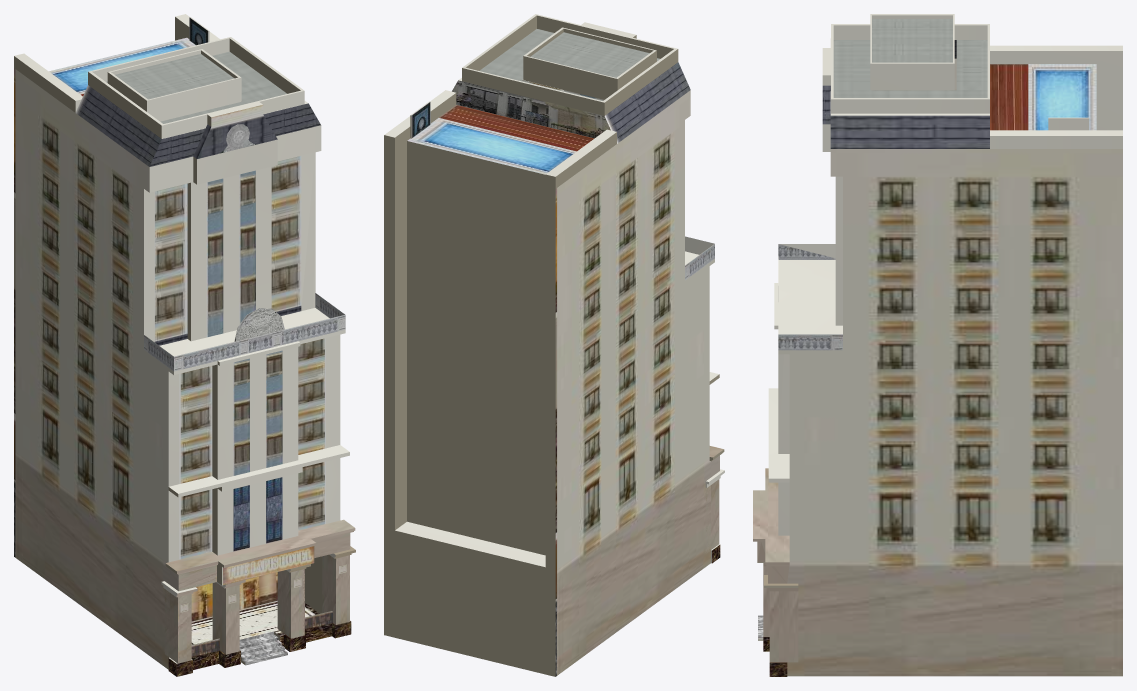
3 views of the same model, side by side, from view 1: azimuth 30°, elevation 25°; view 2: azimuth 150°, elevation 25°; view 3: azimuth 270°, elevation 25° (orthographic). The views are drawn at different scales.
Parts seen in each view (by area): view 1: 5f8d3a431a51f33b96956149; view 2: 5f8d3a431a51f33b96956149; view 3: 5f8d3a431a51f33b96956149.
Part boxes in pixels (x1,y1,x2,y2): 5f8d3a431a51f33b96956149: (14, 14, 355, 676); 5f8d3a431a51f33b96956149: (384, 14, 724, 676); 5f8d3a431a51f33b96956149: (753, 14, 1122, 676).
Bounding box in the file's own units: 15.41 × 44.41 × 25.66.
Materials: 1 (1 with a texture image).
